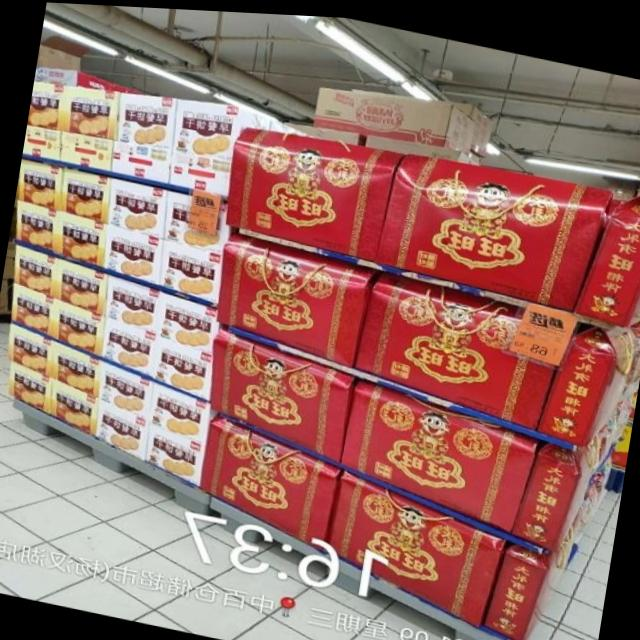box: (376, 149, 613, 305), (353, 267, 551, 423), (341, 376, 538, 529), (328, 467, 508, 624), (227, 125, 404, 256), (217, 230, 382, 364), (210, 326, 358, 459), (199, 411, 340, 548), (537, 321, 635, 441), (312, 84, 477, 150), (168, 97, 271, 190), (511, 438, 594, 547), (576, 188, 640, 320), (484, 538, 569, 637), (158, 190, 232, 303), (146, 380, 216, 486), (154, 291, 222, 400), (104, 178, 168, 283), (100, 274, 161, 377), (110, 91, 176, 182), (95, 359, 151, 459), (51, 258, 107, 355), (58, 85, 119, 170), (58, 168, 110, 266), (49, 339, 100, 435), (9, 244, 59, 335), (15, 159, 63, 251), (6, 323, 53, 415), (365, 131, 481, 160), (23, 80, 62, 159), (442, 97, 495, 151), (36, 66, 140, 93), (36, 35, 89, 68), (285, 119, 365, 140)
